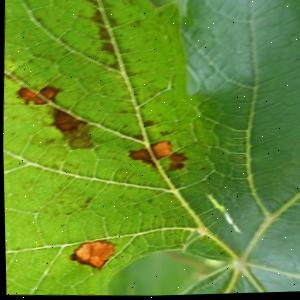Folha: (0, 0, 300, 300)
Fungo: (13, 82, 96, 151), (47, 106, 95, 150), (68, 238, 115, 270), (125, 139, 173, 168), (15, 84, 60, 106), (165, 151, 189, 172), (66, 132, 94, 149), (157, 129, 173, 137), (141, 119, 153, 127), (132, 134, 142, 140)
